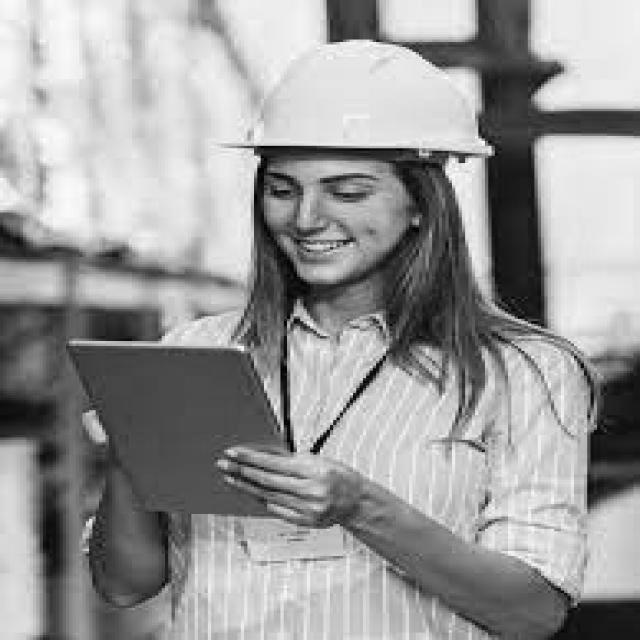construction helmet: (221, 40, 495, 166)
